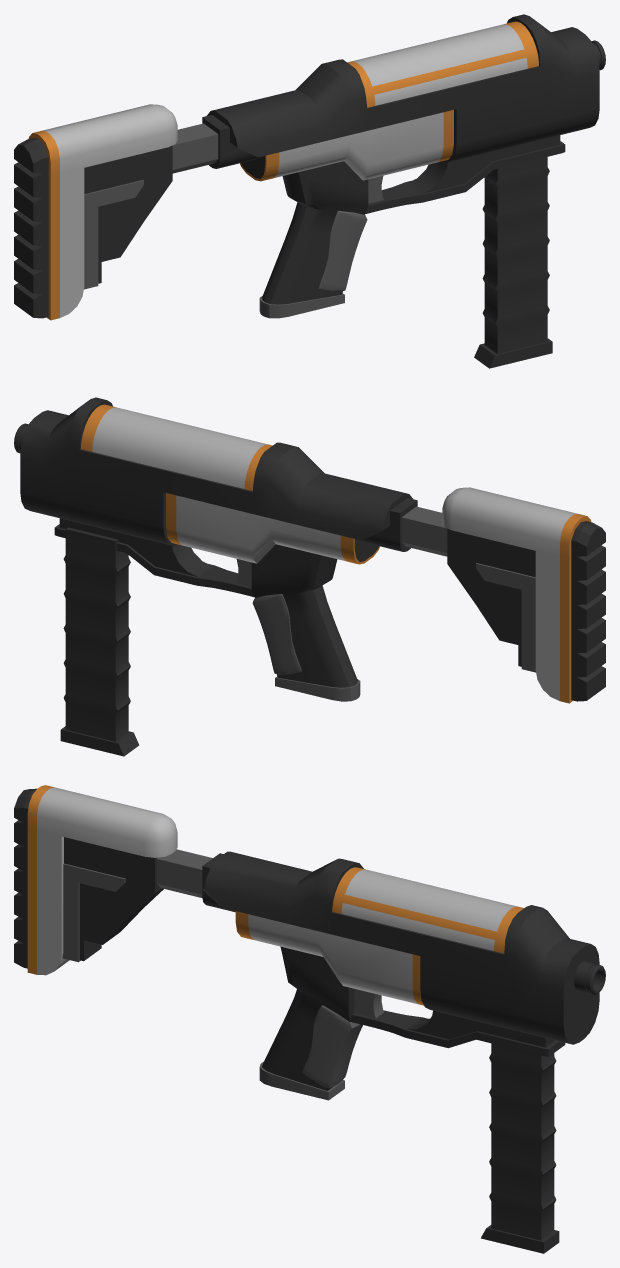
Rendered from SMG_1.glb.
The picture shows the model from 3 angles, top to bottom: view 1: azimuth 30°, elevation 25°; view 2: azimuth 150°, elevation 25°; view 3: azimuth 330°, elevation 25°; orthographic projection.
Visible parts, largest first — view 1: SMG_1, Magazine_SMG; view 2: SMG_1, Magazine_SMG; view 3: SMG_1, Magazine_SMG.
Part boxes in pixels (<box>): SMG_1: <box>14,14,605,320</box>; Magazine_SMG: <box>474,157,552,368</box>; SMG_1: <box>14,397,605,703</box>; Magazine_SMG: <box>60,527,139,756</box>; SMG_1: <box>14,785,605,1100</box>; Magazine_SMG: <box>481,1043,559,1253</box>.
Size of the model in its own units: 1.41 by 0.792 by 0.1529.
